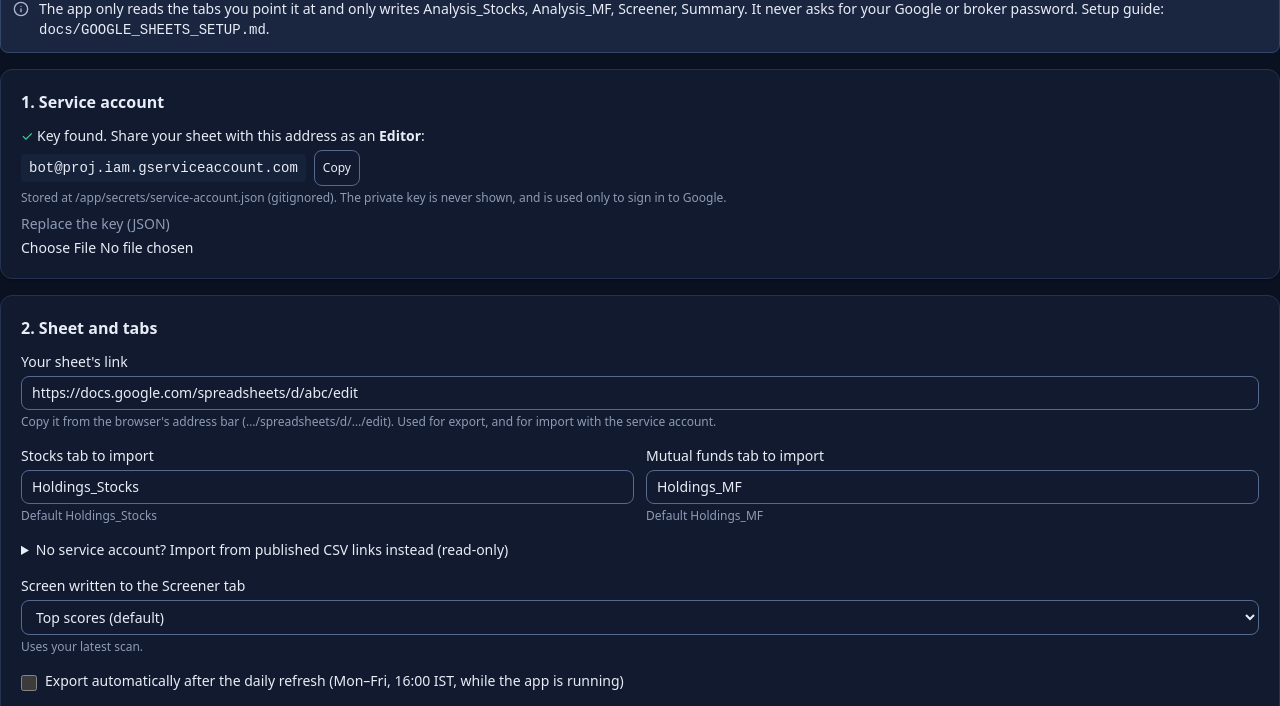
Google Sheets › shows the robot e-mail to share with and saves settings
Check: the text "bot@proj.iam.gserviceaccount.com" is shown, box [21, 154, 306, 182]
Select "Growth" in the dropdown at x=640, y=618, box [21, 600, 1259, 635]
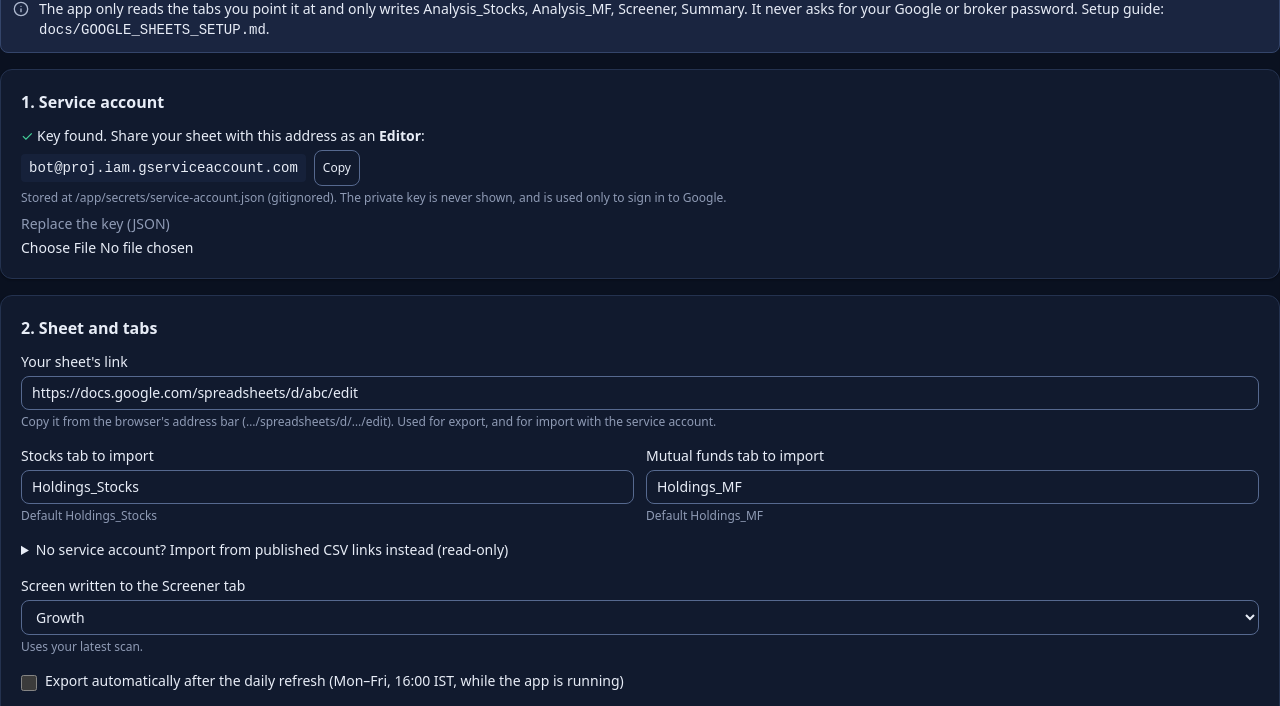
Click the checkbox labelled "Export automatically after the daily refresh" at x=29, y=683, box [21, 675, 37, 691]
(page scrolled)
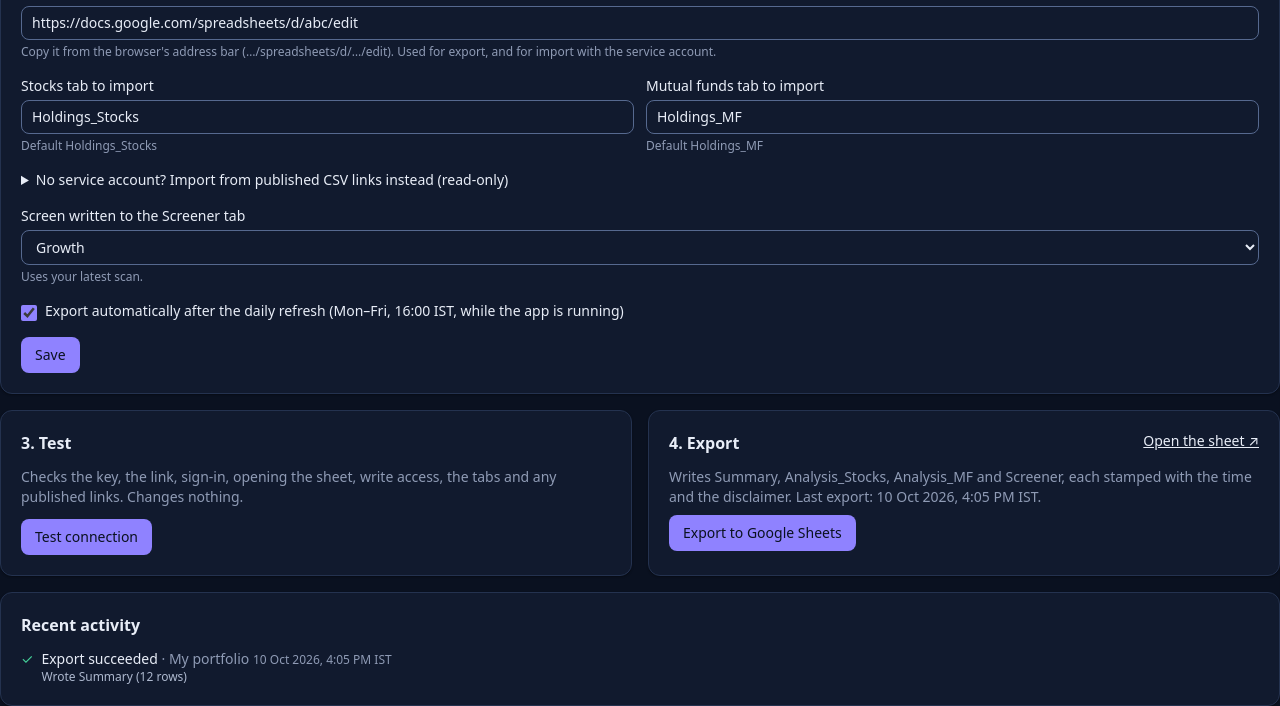
Click the button "Save" at x=50, y=355, box [21, 337, 80, 373]
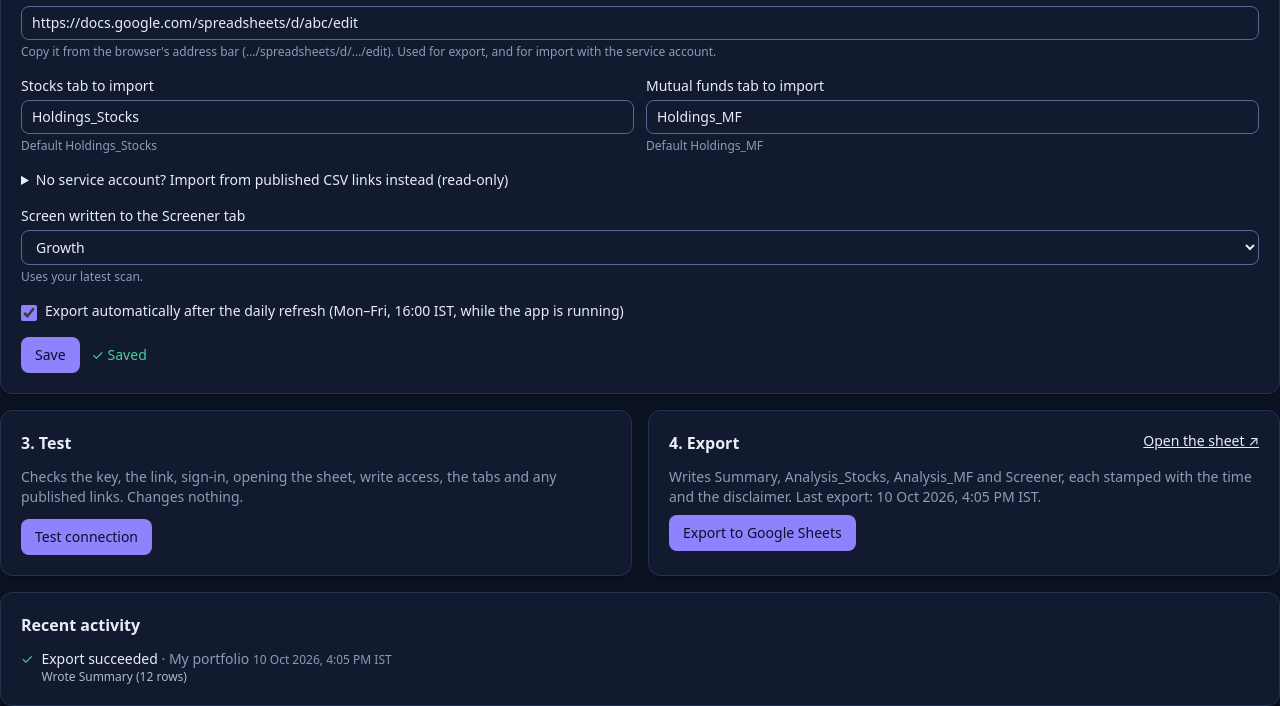
Check: the text "✓ Saved" is shown, box [92, 345, 147, 365]
